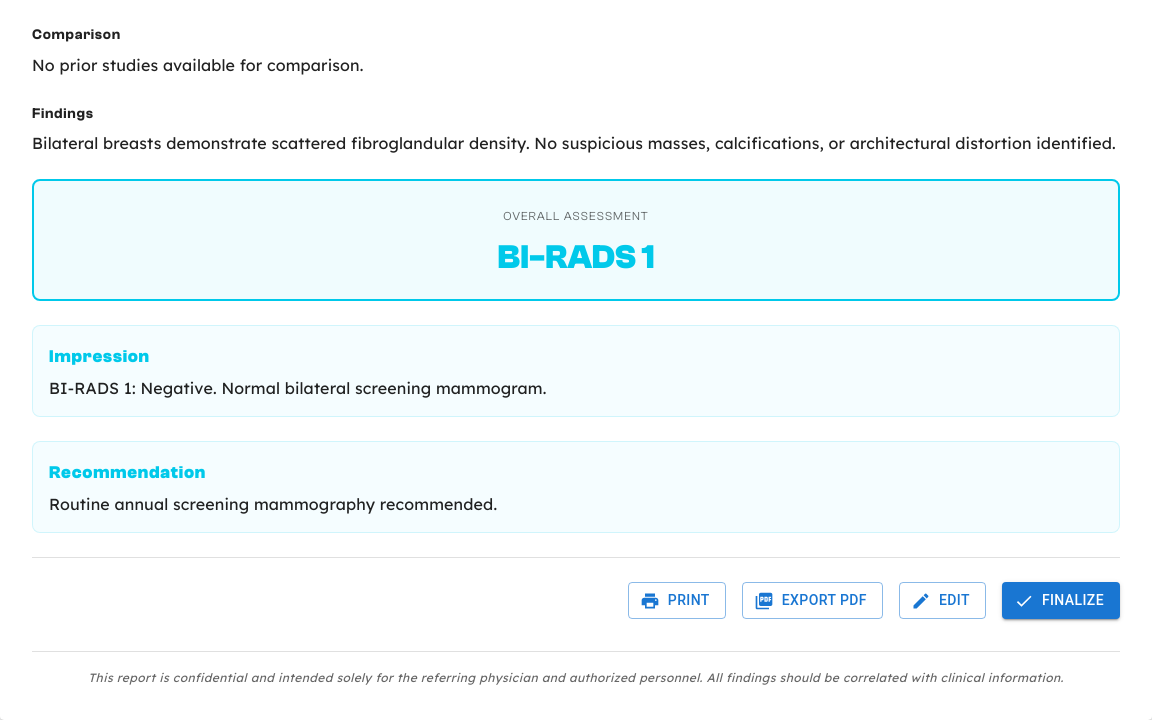
Test: ReportPreview Finalization › should show confirmation dialog before finalizing
This screenshot has width=1152, height=720.
(page scrolled)
Step 1. Click the button "Finalize" → {"x": 1061, "y": 601}, box left=1002, top=582, right=1120, bottom=619
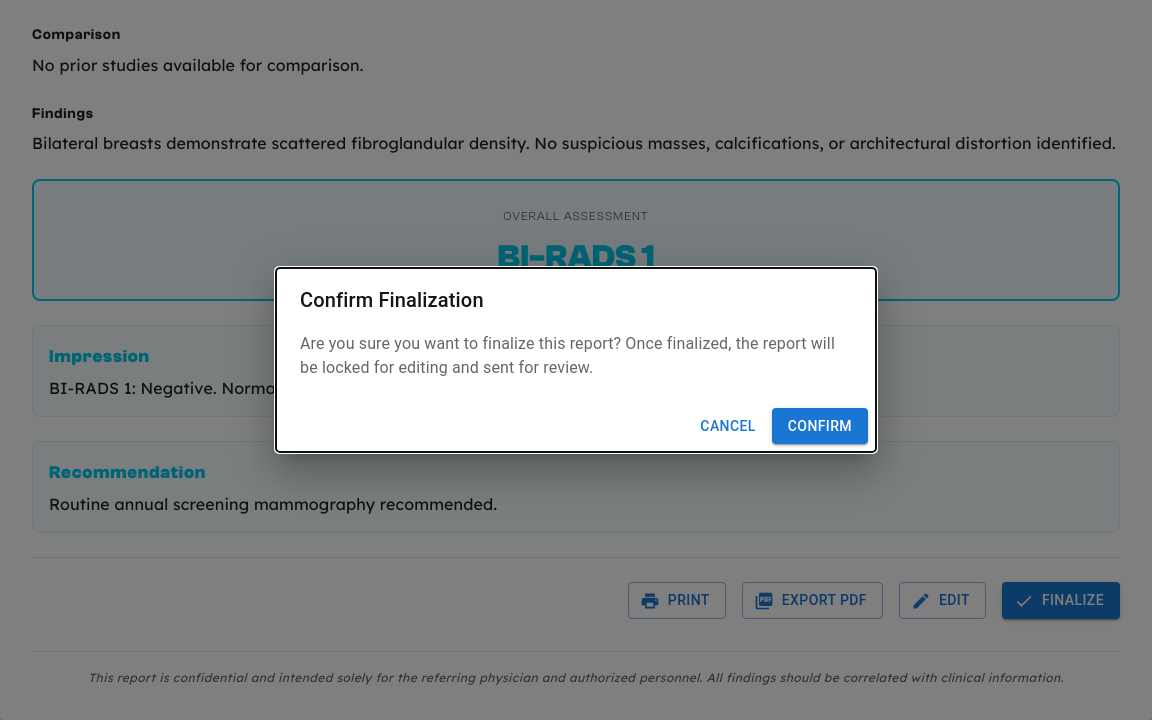
Check: the text "Are you sure" is shown, box left=300, top=334, right=835, bottom=377
